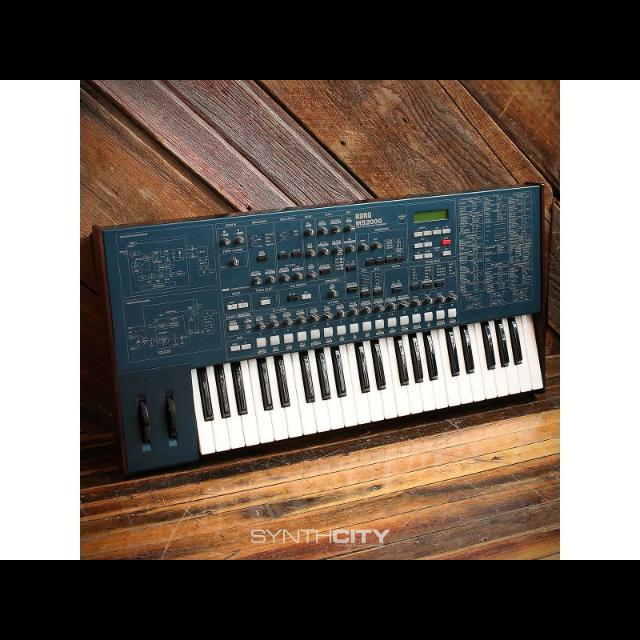Electronic-Keyboard: (96, 190, 546, 474)
